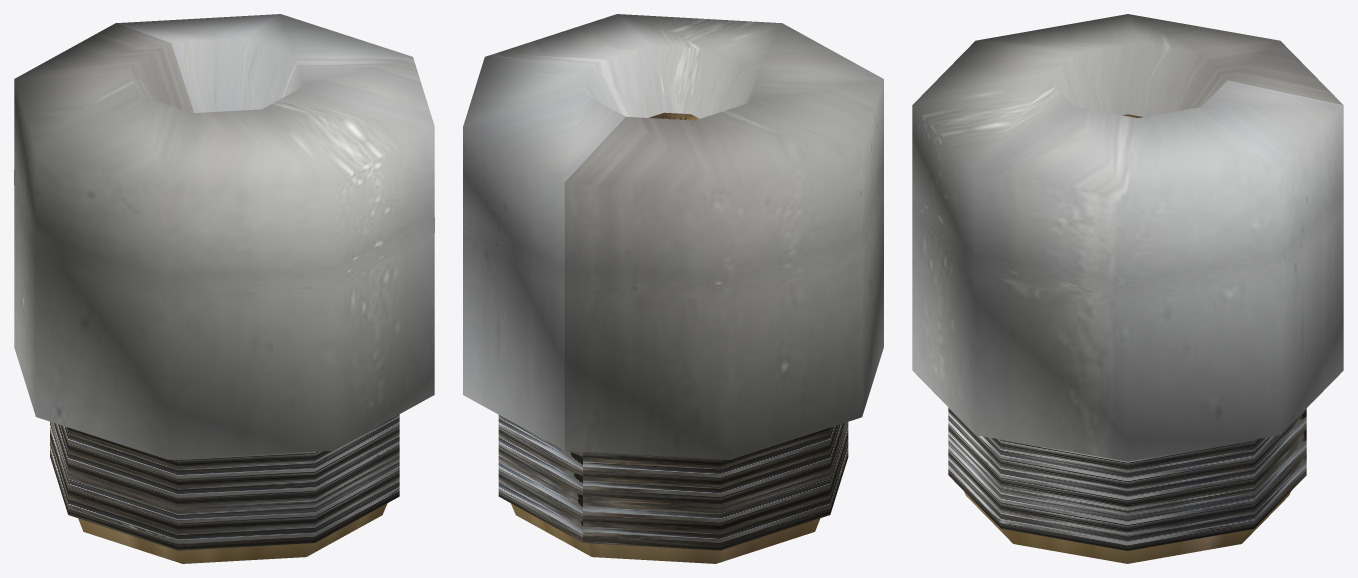
File: Fuse.fbx
3 views of the same model, side by side, from view 1: azimuth 30°, elevation 25°; view 2: azimuth 150°, elevation 25°; view 3: azimuth 270°, elevation 25° (orthographic).
Visible parts, largest first — view 1: Fuse; view 2: Fuse; view 3: Fuse.
Boxes of the visible parts, left/top/right/bottom form: Fuse: left=14, top=14, right=434, bottom=563; Fuse: left=463, top=14, right=883, bottom=563; Fuse: left=912, top=14, right=1343, bottom=563.
Bounding box in the file's own units: 27.82 × 29.45 × 27.82.
